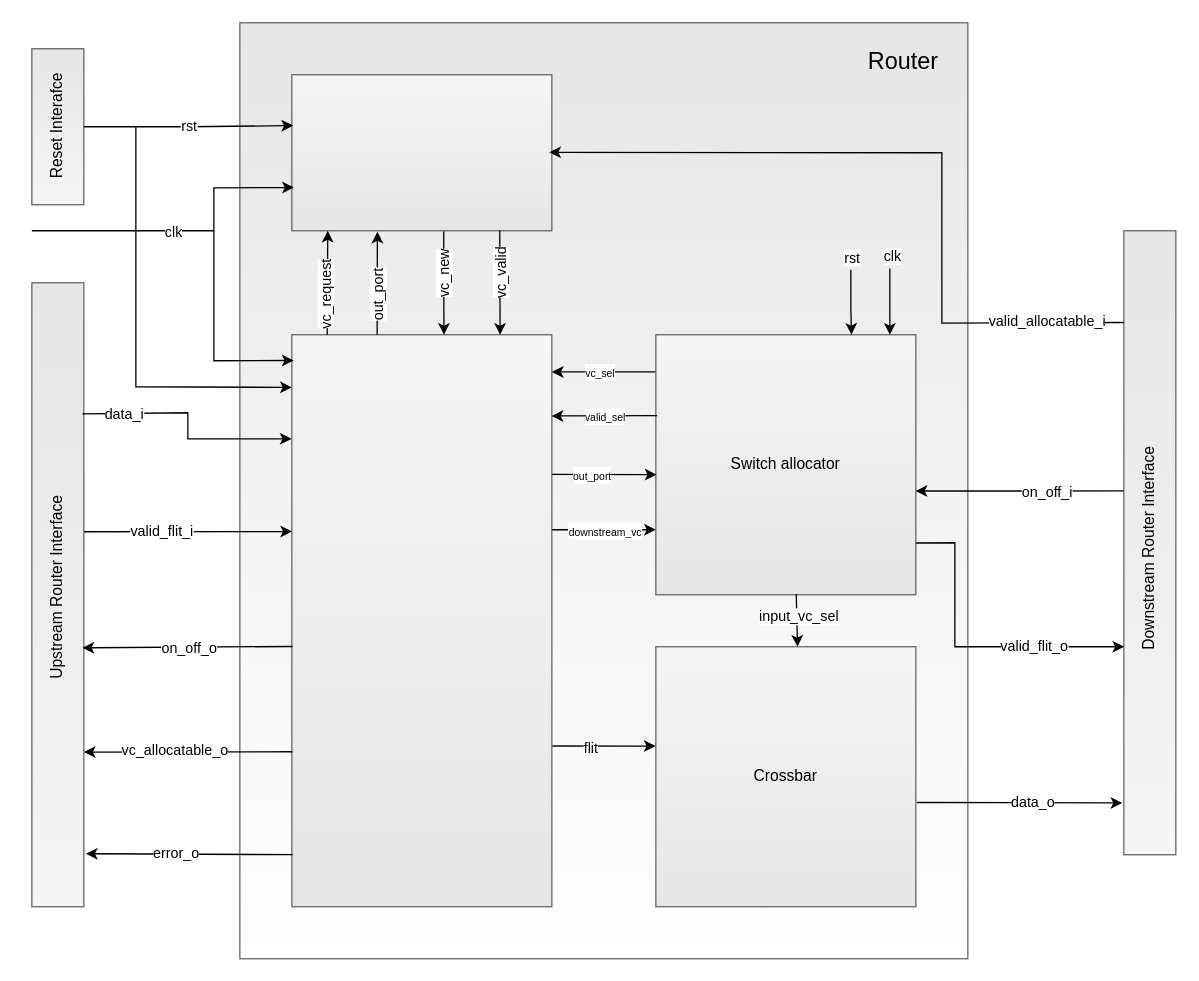
Image size: 1199x981. Some labels were removed from this diagram. The centre of each missing label's shape, as x and y in pixels:
"Input block" goes at [421,620].
"Virtual Channel Allocator" goes at [421,152].
